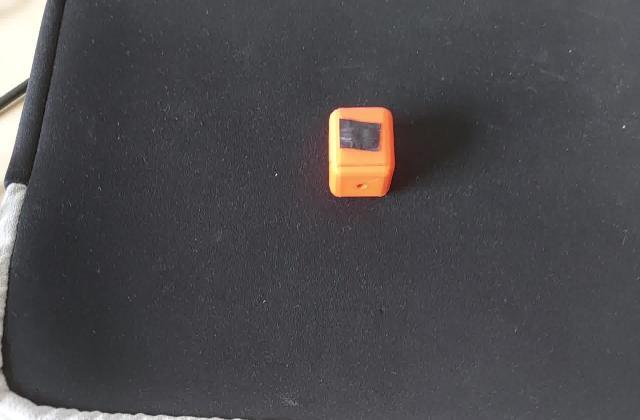black: (334, 114, 387, 154)
sticker: (324, 102, 401, 201)
